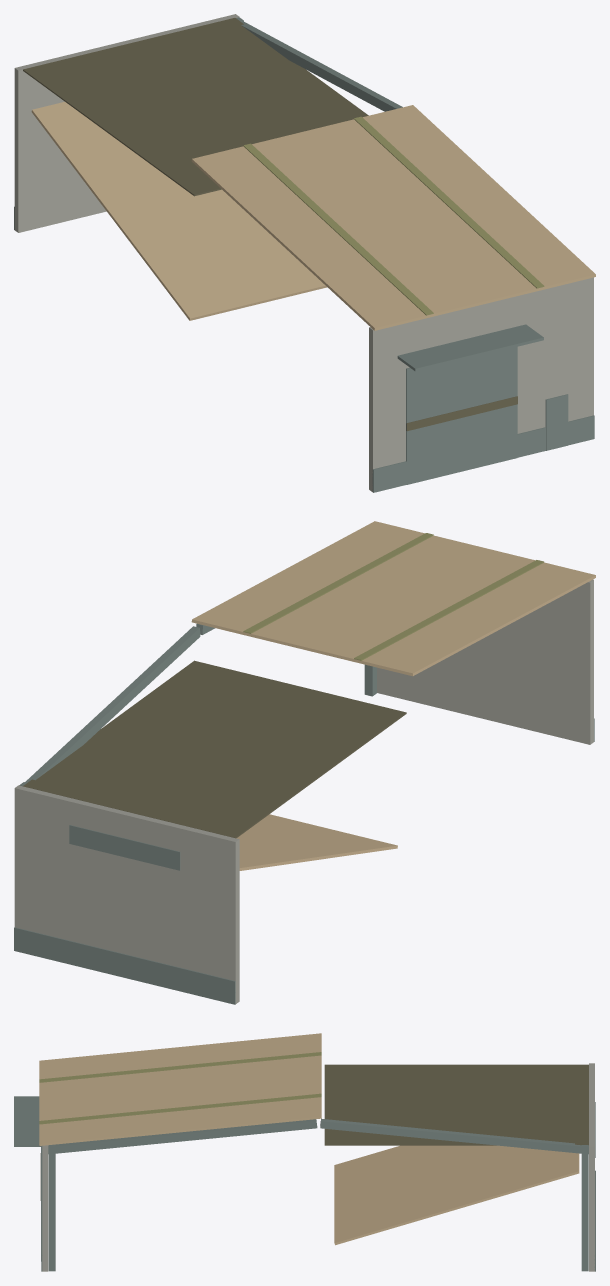
The model's file is SM_NavePoligono_Modulo_e2_CubiertaHundida_LOD1.fbx.
The picture shows the model from 3 angles, top to bottom: view 1: azimuth 30°, elevation 25°; view 2: azimuth 150°, elevation 25°; view 3: azimuth 270°, elevation 25°; orthographic projection. The views are drawn at different scales.
Parts seen in each view (by area): view 1: SM_nave_poligono_v2_LOD1; view 2: SM_nave_poligono_v2_LOD1; view 3: SM_nave_poligono_v2_LOD1.
Boxes of the visible parts, box(x1,y1,x2,y2) form: SM_nave_poligono_v2_LOD1: box(14, 14, 595, 492); SM_nave_poligono_v2_LOD1: box(14, 521, 595, 1004); SM_nave_poligono_v2_LOD1: box(14, 1033, 595, 1271).
Size of the model in its own units: 9.98 by 8.72 by 29.49.
